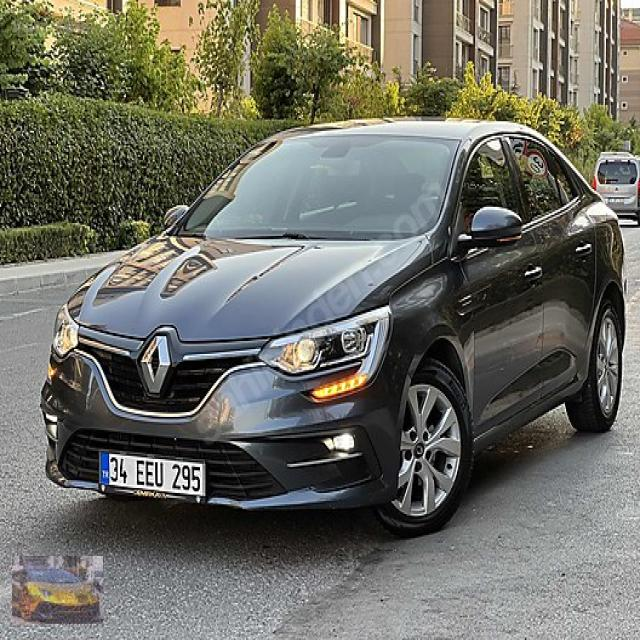renault: (139, 330, 174, 394)
